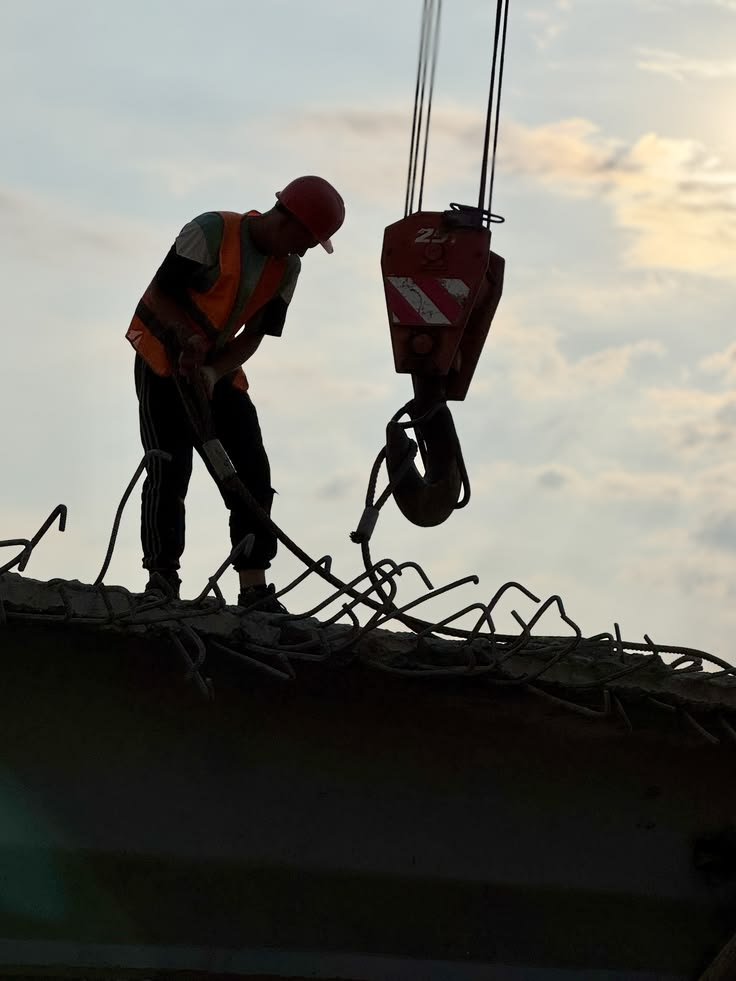hardhat: (271, 156, 343, 237)
person: (102, 129, 353, 610)
safety_vest: (143, 210, 278, 395)
